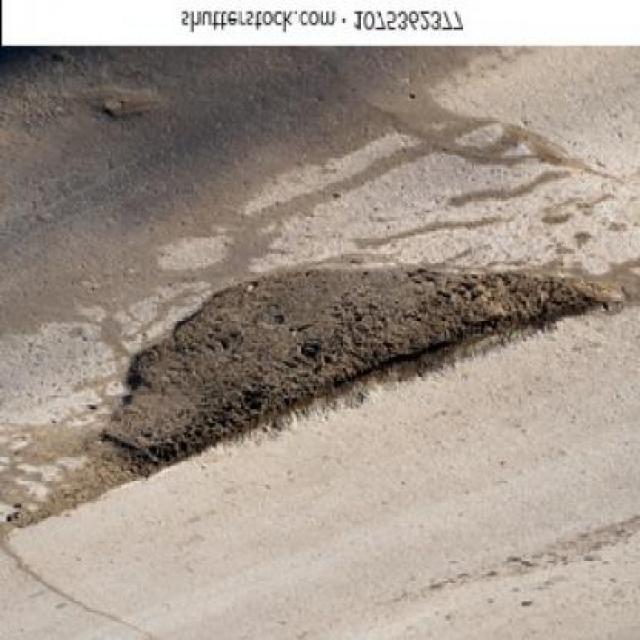Pothole: (88, 244, 630, 493)
